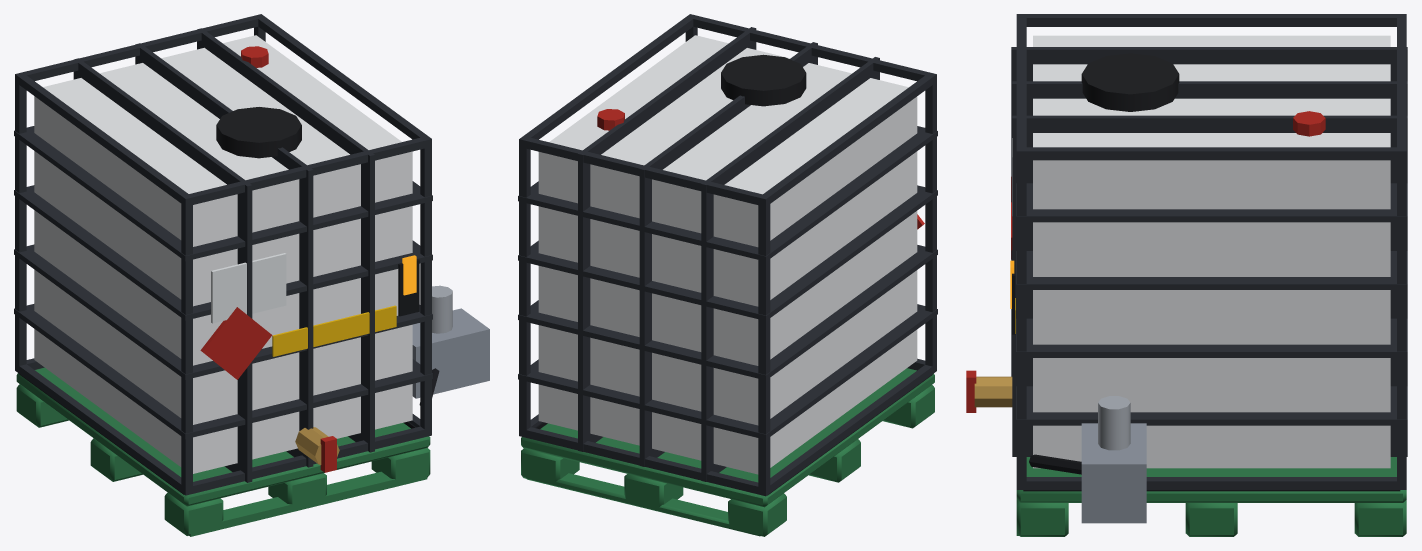
Rendered from barrel_ibc_tote_composite.glb.
3 views of the same model, side by side, from view 1: azimuth 30°, elevation 25°; view 2: azimuth 150°, elevation 25°; view 3: azimuth 270°, elevation 25° (orthographic). The views are drawn at different scales.
Visible parts, largest first — view 1: barrel_ibc_tote_composite; view 2: barrel_ibc_tote_composite; view 3: barrel_ibc_tote_composite.
Part boxes in pixels (x1,y1,x2,y2): barrel_ibc_tote_composite: [14, 14, 489, 536]; barrel_ibc_tote_composite: [518, 14, 937, 536]; barrel_ibc_tote_composite: [966, 14, 1407, 536].
Size of the model in its own units: 1.35 by 1.35 by 1.36.
